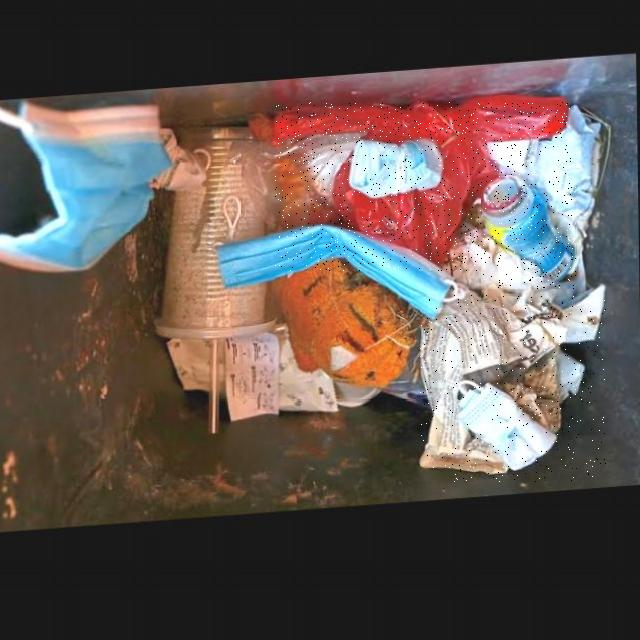paper: (420, 295, 606, 481)
plastic: (275, 102, 571, 271), (158, 132, 275, 342), (482, 182, 576, 288)
